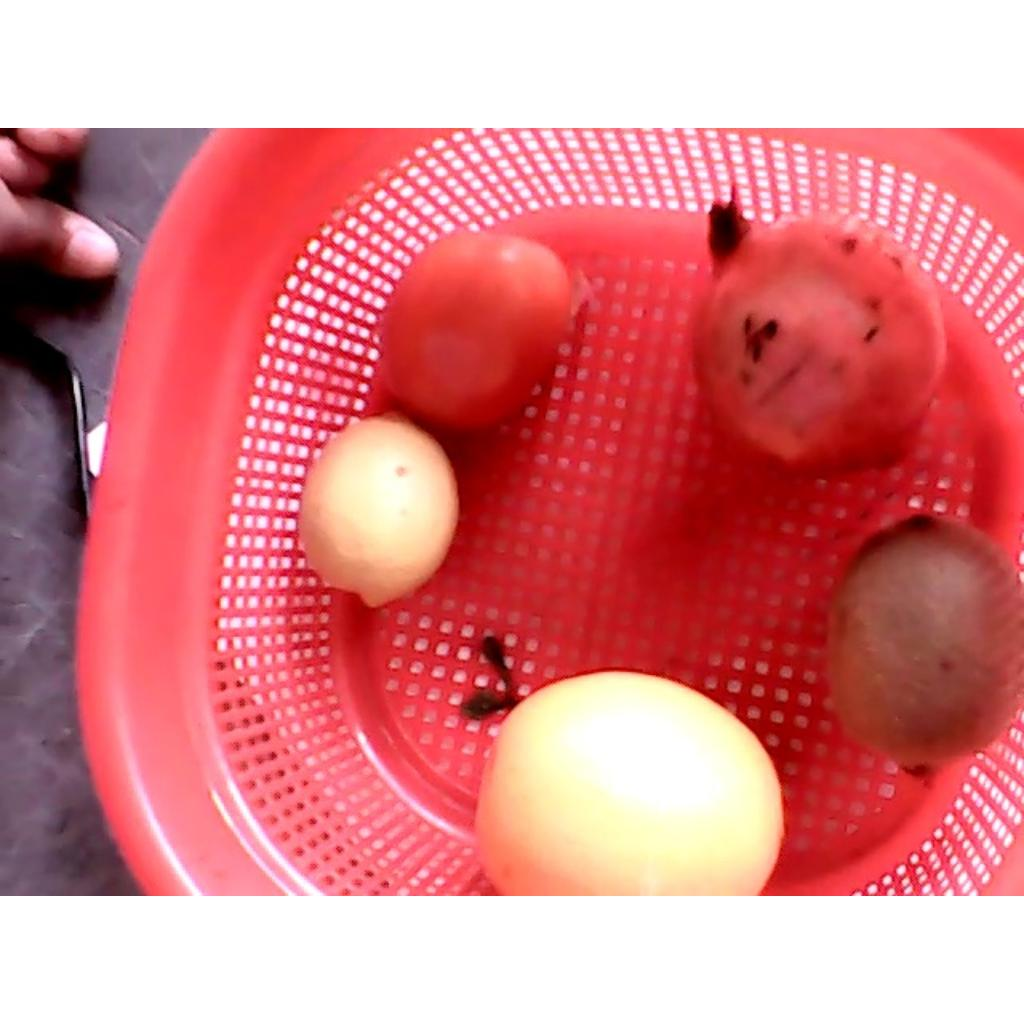kiwi: (829, 510, 1022, 780)
lemon: (300, 406, 459, 610)
orange: (474, 671, 784, 894)
pomegranate: (689, 183, 948, 472)
tomato: (386, 229, 574, 435)
